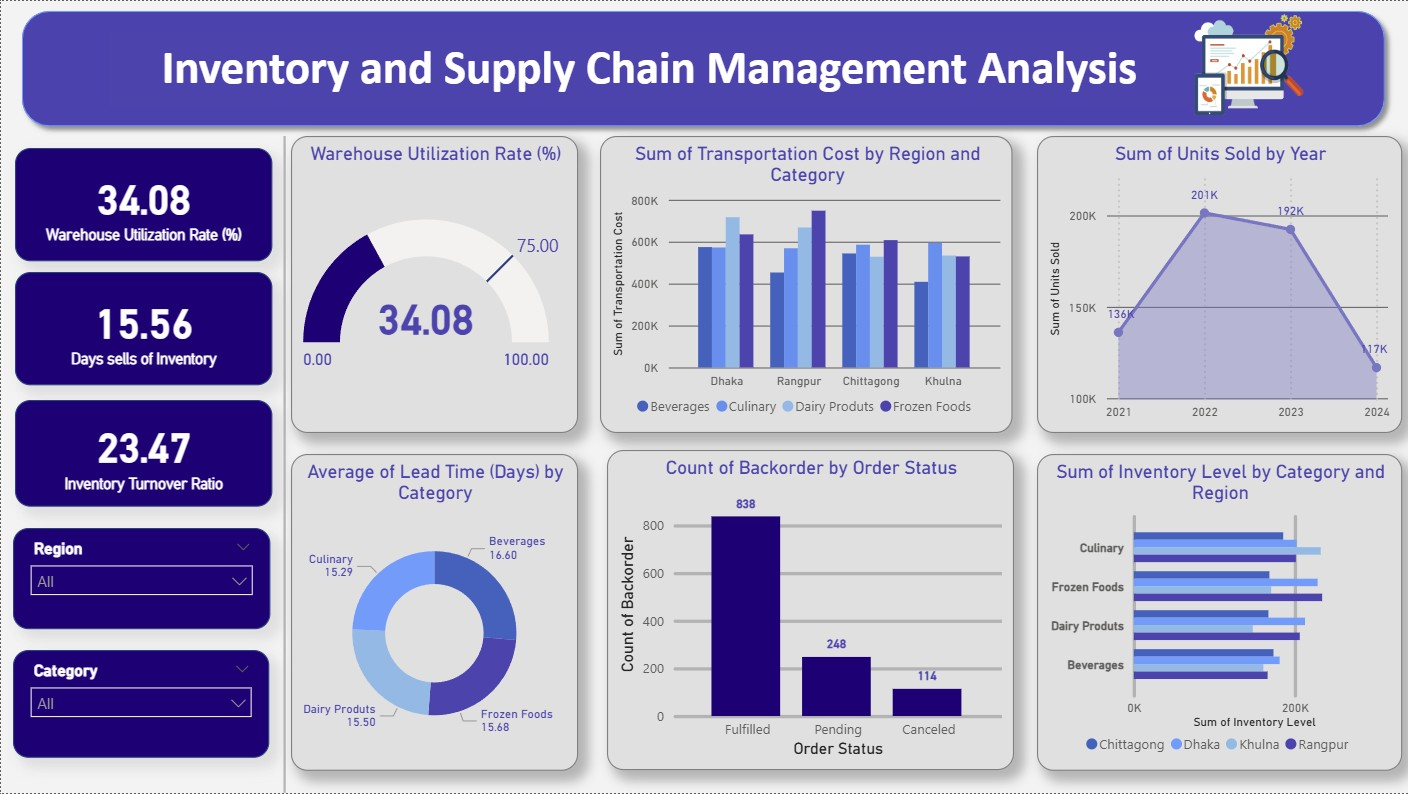

The page's visual inventory and layout, read from the dashboard file:
{"tool":"powerbi","page":{"name":"Page 1","canvas":[1280,720],"ordinal":0},"visuals":[{"type":"shape","box":[10,0,1257,123],"z":0},{"type":"textbox","box":[98.2,28.2,982.4,67.1],"z":1000},{"type":"image","box":[1070,0,128,110],"z":2000},{"type":"shape","box":[252,123,12,597],"z":3000},{"type":"card","fields":{"Values":["Inventory and Supply Chain Dataset.Warehouse Utilization"]},"box":[12.6,133.3,234.4,103.1],"z":4000},{"type":"card","fields":{"Values":["Inventory and Supply Chain Dataset.Days sells of Inventory"]},"box":[12.6,246.1,234.4,103.1],"z":5000},{"type":"card","fields":{"Values":["Inventory and Supply Chain Dataset.Inventory Turnover Ratio"]},"box":[12.6,362.8,234.4,97.3],"z":6000},{"type":"slicer","fields":{"Values":["Inventory and Supply Chain Dataset.Region"]},"box":[10.7,479.5,234.4,92.4],"z":7000},{"type":"slicer","fields":{"Values":["Inventory and Supply Chain Dataset.Category"]},"box":[10.7,590.4,233.4,98.2],"z":8000},{"type":"gauge","fields":{"Y":["Inventory and Supply Chain Dataset.Warehouse Utilization Rate (%)"]},"box":[263.6,122.6,260.7,270.4],"z":9000},{"type":"clusteredColumnChart","fields":{"Category":["Inventory and Supply Chain Dataset.Region"],"Y":["Sum(Inventory and Supply Chain Dataset.Transportation Cost)"],"Series":["Inventory and Supply Chain Dataset.Category"]},"box":[544.7,122.6,375.4,270.4],"z":10000},{"type":"lineChart","fields":{"Y":["Sum(Inventory and Supply Chain Dataset.Units Sold)"],"Category":["Inventory and Supply Chain Dataset.Date.Variation.Date Hierarchy.Year"]},"box":[941.5,122.6,331.7,270.4],"z":11000},{"type":"donutChart","fields":{"Y":["Avg(Inventory and Supply Chain Dataset.Lead Time (Days))"],"Category":["Inventory and Supply Chain Dataset.Category"]},"box":[263.6,411.4,260.7,287.9],"z":12000},{"type":"columnChart","fields":{"Y":["CountNonNull(Inventory and Supply Chain Dataset.Backorder)"],"Category":["Inventory and Supply Chain Dataset.Order Status"]},"box":[550.5,408.5,369.6,290.8],"z":13000},{"type":"clusteredBarChart","fields":{"Y":["Sum(Inventory and Supply Chain Dataset.Inventory Level)"],"Category":["Inventory and Supply Chain Dataset.Category"],"Series":["Inventory and Supply Chain Dataset.Region"]},"box":[941.5,411.4,331.7,287.9],"z":14000}]}

Visuals, with their boxes in screenshot pixels (x1, y1, x2, y2), scaled from the page's 1280x720 canvas onto the 1408x794 screenshot:
shape: BBox(11, 0, 1394, 136)
textbox: BBox(108, 31, 1189, 105)
image: BBox(1177, 0, 1318, 121)
shape: BBox(277, 136, 290, 793)
card - Inventory and Supply Chain Dataset.Warehouse Utilization: BBox(14, 147, 272, 261)
card - Inventory and Supply Chain Dataset.Days sells of Inventory: BBox(14, 271, 272, 385)
card - Inventory and Supply Chain Dataset.Inventory Turnover Ratio: BBox(14, 400, 272, 507)
slicer - Inventory and Supply Chain Dataset.Region: BBox(12, 529, 270, 631)
slicer - Inventory and Supply Chain Dataset.Category: BBox(12, 651, 269, 759)
gauge - Inventory and Supply Chain Dataset.Warehouse Utilization Rate (%): BBox(290, 135, 577, 433)
clusteredColumnChart - Inventory and Supply Chain Dataset.Region x Sum(Inventory and Supply Chain Dataset.Transportation Cost): BBox(599, 135, 1012, 433)
lineChart - Sum(Inventory and Supply Chain Dataset.Units Sold) x Inventory and Supply Chain Dataset.Date.Variation.Date Hierarchy.Year: BBox(1036, 135, 1401, 433)
donutChart - Avg(Inventory and Supply Chain Dataset.Lead Time (Days)) x Inventory and Supply Chain Dataset.Category: BBox(290, 454, 577, 771)
columnChart - CountNonNull(Inventory and Supply Chain Dataset.Backorder) x Inventory and Supply Chain Dataset.Order Status: BBox(606, 450, 1012, 771)
clusteredBarChart - Sum(Inventory and Supply Chain Dataset.Inventory Level) x Inventory and Supply Chain Dataset.Category: BBox(1036, 454, 1401, 771)
